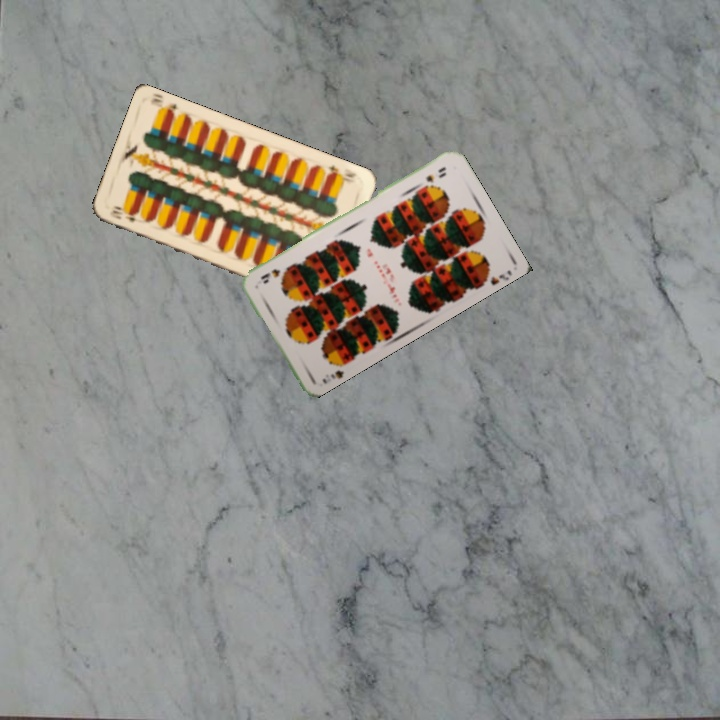E10: (323, 161, 359, 180), (106, 206, 138, 224)
S9: (318, 355, 349, 386), (422, 163, 449, 185)
